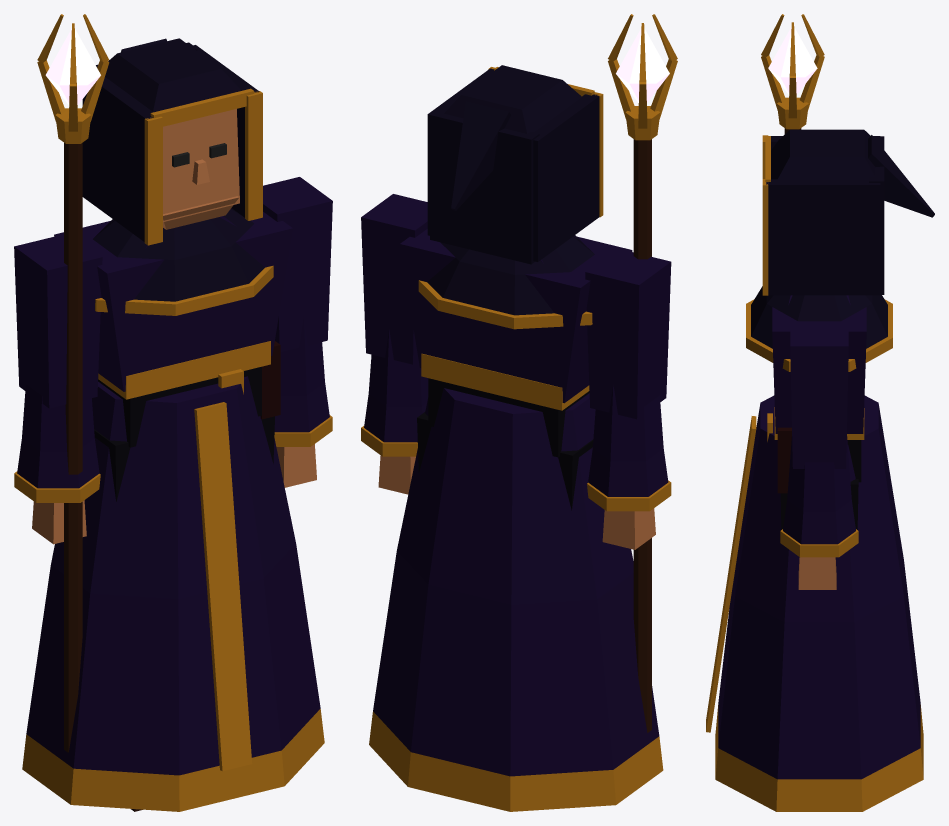
File: ArcanistaDoVeu.fbx
3 views of the same model, side by side, from view 1: azimuth 30°, elevation 25°; view 2: azimuth 150°, elevation 25°; view 3: azimuth 270°, elevation 25° (orthographic). The views are drawn at different scales.
Parts seen in each view (by area): view 1: Body, ArmR, Head, ArmL, LegR; view 2: Body, ArmR, Head, ArmL, LegR; view 3: Body, Head, ArmL, ArmR, LegL.
Boxes of the visible parts, left/top/right/bottom form: Body: left=22, top=208, right=324, bottom=811; ArmR: left=14, top=14, right=109, bottom=752; Head: left=82, top=38, right=262, bottom=245; ArmL: left=263, top=177, right=332, bottom=487; LegR: left=94, top=429, right=142, bottom=811; Body: left=369, top=229, right=663, bottom=811; ArmR: left=585, top=14, right=677, bottom=732; Head: left=427, top=65, right=603, bottom=264; ArmL: left=361, top=194, right=428, bottom=494; LegR: left=558, top=439, right=593, bottom=510; Body: left=706, top=286, right=923, bottom=811; Head: left=762, top=129, right=934, bottom=295; ArmL: left=780, top=322, right=858, bottom=589; ArmR: left=761, top=14, right=824, bottom=133; LegL: left=780, top=479, right=858, bottom=529.
Size of the model in its own units: 0.7984 by 2.03 by 0.6011.
